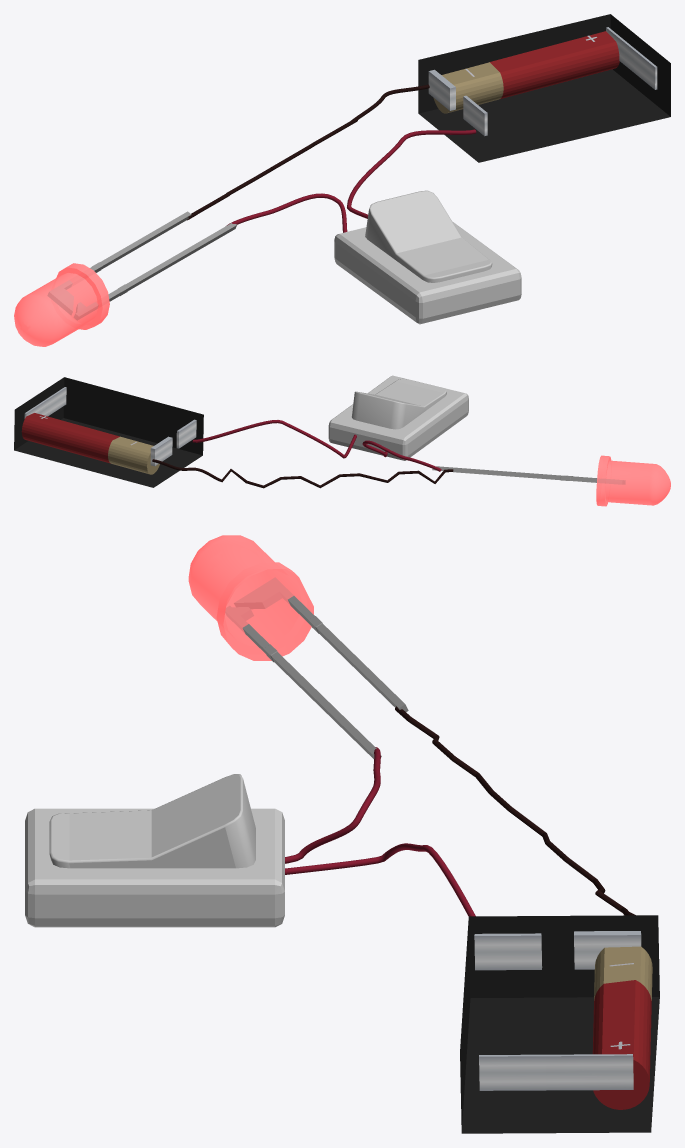
File: circuitWITHSWITCHH(polarity).glb
3 renders of one model, top to bottom at view 1: azimuth 30°, elevation 25°; view 2: azimuth 150°, elevation 25°; view 3: azimuth 270°, elevation 25°, orthographic. The views are drawn at different scales.
Visible parts, largest first — view 1: Box003_Material #1_0; view 2: Box003_Material #1_0; view 3: Box003_Material #1_0.
Boxes of the visible parts, x1=… form: Box003_Material #1_0: x1=14, y1=14, x2=670, y2=346; Box003_Material #1_0: x1=14, y1=375, x2=670, y2=506; Box003_Material #1_0: x1=25, y1=535, x2=659, y2=1133.
Bounding box in the file's own units: 7.23 × 0.621 × 3.62.
Materials: 11 (1 with a texture image).
